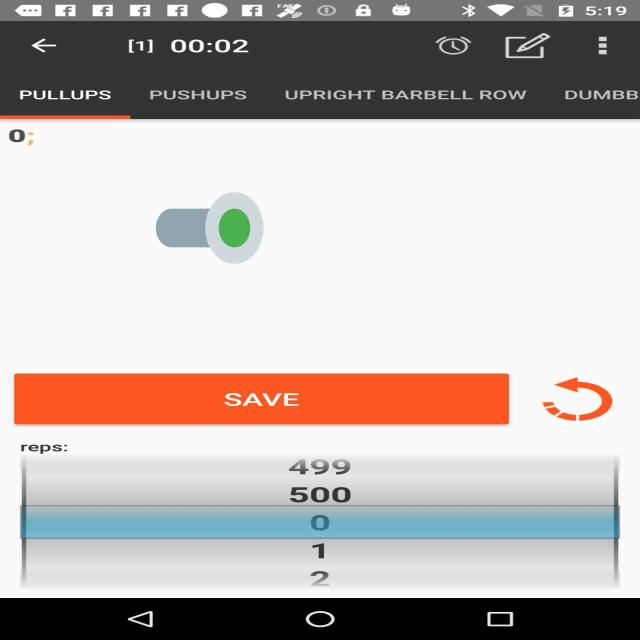social proof: (156, 162, 264, 294)
